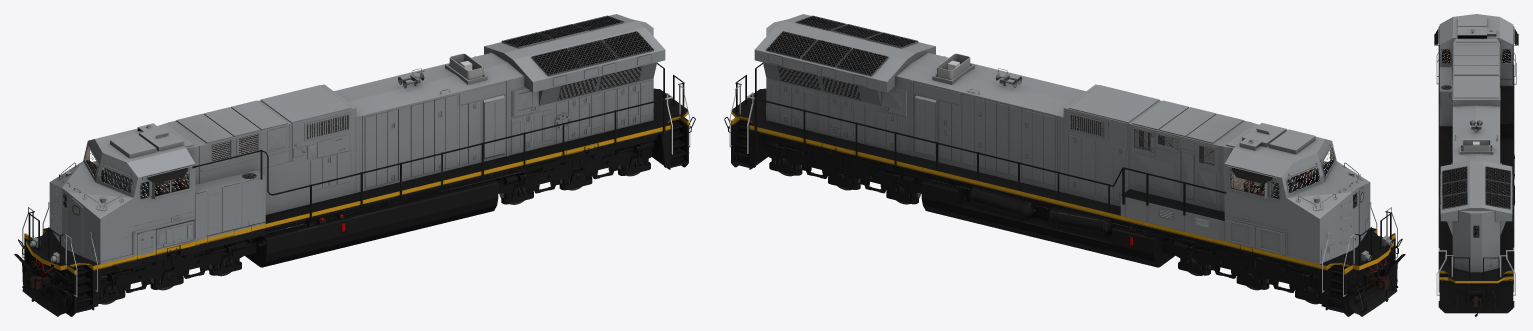
The picture shows the model from 3 angles, left to right: view 1: azimuth 30°, elevation 25°; view 2: azimuth 150°, elevation 25°; view 3: azimuth 270°, elevation 25°; orthographic projection. The views are drawn at different scales.
Visible parts, largest first — view 1: SHELL.002_ac6000cw.003, FRAME_C44-9CW, CAB_ac6000cw.008, FUEL_TANK_C44-9CW.001, BOGEY_REAR_Mesh326_G_050_2_8_Frame1_1_3_GEHiAd_3_1_Model.001, BOGEY_FRONT_Mesh326_G_050_2_8_Frame1_1_3_GEHiAd_3_1_Model.000, handrails_5_Mesh09.010, PLOW_ICPLOW; view 2: SHELL.002_ac6000cw.003, FRAME_C44-9CW, CAB_ac6000cw.008, FUEL_TANK_C44-9CW.001, BOGEY_REAR_Mesh326_G_050_2_8_Frame1_1_3_GEHiAd_3_1_Model.001, BOGEY_FRONT_Mesh326_G_050_2_8_Frame1_1_3_GEHiAd_3_1_Model.000, handrails_5_Mesh09.010, PLOW_ICPLOW; view 3: SHELL.002_ac6000cw.003, FRAME_C44-9CW, CAB_ac6000cw.008, handrails_5_Mesh09.010, HORN_Cylinder.021, FRONT_COUPLER.001_Cube.017, Plane.
Part boxes in pixels (left/top/right/bottom): SHELL.002_ac6000cw.003: left=54, top=14, right=665, bottom=244; FRAME_C44-9CW: left=18, top=88, right=695, bottom=316; CAB_ac6000cw.008: left=49, top=123, right=195, bottom=264; FUEL_TANK_C44-9CW.001: left=245, top=179, right=498, bottom=267; BOGEY_REAR_Mesh326_G_050_2_8_Frame1_1_3_GEHiAd_3_1_Model.001: left=494, top=140, right=654, bottom=204; BOGEY_FRONT_Mesh326_G_050_2_8_Frame1_1_3_GEHiAd_3_1_Model.000: left=98, top=239, right=256, bottom=303; handrails_5_Mesh09.010: left=22, top=63, right=690, bottom=297; PLOW_ICPLOW: left=14, top=254, right=72, bottom=316; SHELL.002_ac6000cw.003: left=754, top=14, right=1362, bottom=244; FRAME_C44-9CW: left=724, top=88, right=1402, bottom=316; CAB_ac6000cw.008: left=1224, top=123, right=1370, bottom=264; FUEL_TANK_C44-9CW.001: left=921, top=179, right=1174, bottom=267; BOGEY_REAR_Mesh326_G_050_2_8_Frame1_1_3_GEHiAd_3_1_Model.001: left=766, top=140, right=925, bottom=204; BOGEY_FRONT_Mesh326_G_050_2_8_Frame1_1_3_GEHiAd_3_1_Model.000: left=1163, top=239, right=1321, bottom=303; handrails_5_Mesh09.010: left=729, top=63, right=1397, bottom=296; PLOW_ICPLOW: left=1347, top=254, right=1405, bottom=316; SHELL.002_ac6000cw.003: left=1439, top=38, right=1513, bottom=272; FRAME_C44-9CW: left=1438, top=126, right=1514, bottom=313; CAB_ac6000cw.008: left=1434, top=14, right=1518, bottom=86; handrails_5_Mesh09.010: left=1436, top=45, right=1516, bottom=295; HORN_Cylinder.021: left=1470, top=120, right=1482, bottom=132; FRONT_COUPLER.001_Cube.017: left=1471, top=295, right=1481, bottom=307; Plane: left=1442, top=49, right=1510, bottom=62.
Bounding box in the file's own units: 23.43 × 5.06 × 3.59.
Materials: 10 (9 with a texture image).
